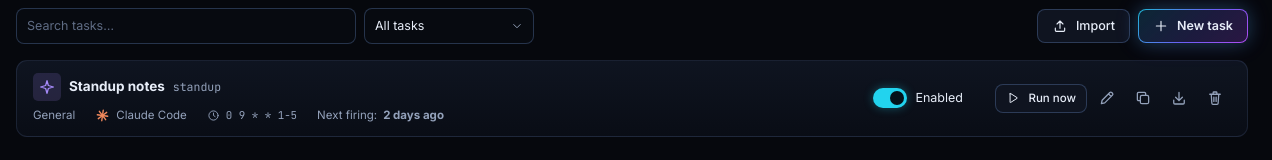
Scenario: the Tasks screen's toggle › disables a task, reads the list again to show it disabled, and enables it
This screenshot has width=1272, height=160.
expect the element with class "task-row" shows "Next firing": met, box left=317, top=108, right=374, bottom=122
expect the button "Run now" is enabled: met, box left=995, top=84, right=1087, bottom=113
Step 1. Click the checkbox labelled "Enabled" → click(918, 98), box left=873, top=88, right=963, bottom=108
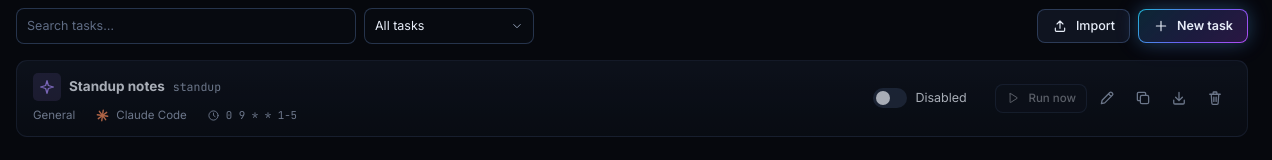
expect the checkbox labelled "Disabled" is not checked: met
expect the button "Run now" is disabled: met, box left=995, top=84, right=1087, bottom=113
expect the element with class "task-row" no longer shows "Next firing": met
Step 2. Click the checkbox labelled "Disabled" → click(920, 98), box left=873, top=88, right=967, bottom=108
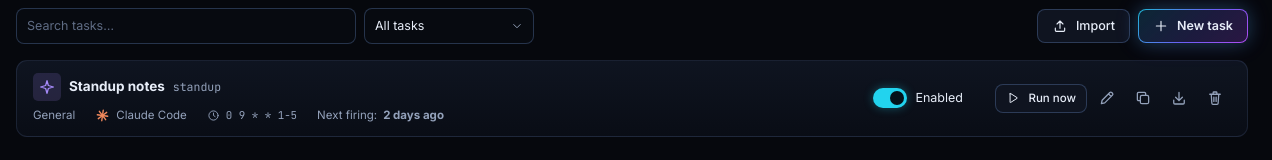
expect the checkbox labelled "Enabled" is checked: met, box left=873, top=88, right=963, bottom=108
expect the button "Run now" is enabled: met, box left=995, top=84, right=1087, bottom=113
